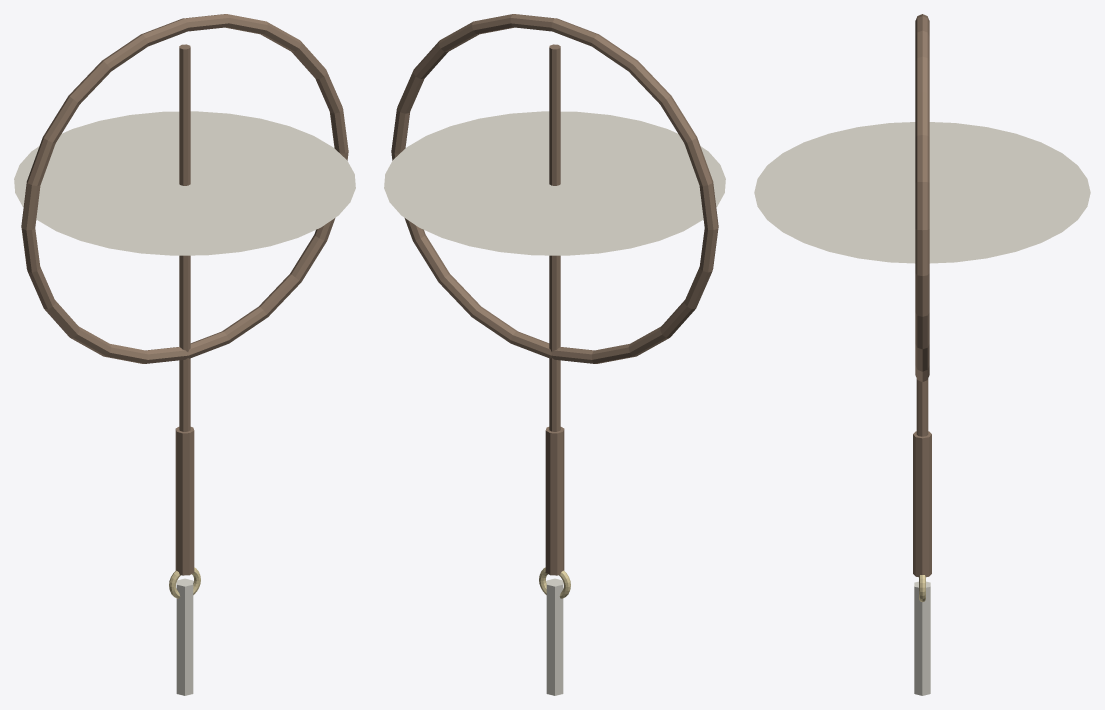
The model's file is prop_hand_fan.glb.
The picture shows the model from 3 angles, left to right: view 1: azimuth 30°, elevation 25°; view 2: azimuth 150°, elevation 25°; view 3: azimuth 270°, elevation 25°; orthographic projection.
Visible parts, largest first — view 1: prop_hand_fan/fan_face_00000, prop_hand_fan/fan_outer_hoop_00001, prop_hand_fan/fan_spine_00002, prop_hand_fan/fan_handle_00003, prop_hand_fan/fan_silk_tassel_00005; view 2: prop_hand_fan/fan_face_00000, prop_hand_fan/fan_outer_hoop_00001, prop_hand_fan/fan_spine_00002, prop_hand_fan/fan_handle_00003, prop_hand_fan/fan_silk_tassel_00005; view 3: prop_hand_fan/fan_face_00000, prop_hand_fan/fan_outer_hoop_00001, prop_hand_fan/fan_handle_00003, prop_hand_fan/fan_silk_tassel_00005, prop_hand_fan/fan_spine_00002.
Part boxes in pixels (bbox=[...]): prop_hand_fan/fan_face_00000: bbox=[14, 111, 355, 255]; prop_hand_fan/fan_outer_hoop_00001: bbox=[21, 14, 348, 363]; prop_hand_fan/fan_spine_00002: bbox=[179, 44, 190, 431]; prop_hand_fan/fan_handle_00003: bbox=[175, 427, 194, 575]; prop_hand_fan/fan_silk_tassel_00005: bbox=[176, 578, 193, 695]; prop_hand_fan/fan_face_00000: bbox=[384, 111, 725, 255]; prop_hand_fan/fan_outer_hoop_00001: bbox=[391, 14, 718, 363]; prop_hand_fan/fan_spine_00002: bbox=[549, 44, 560, 431]; prop_hand_fan/fan_handle_00003: bbox=[545, 427, 564, 575]; prop_hand_fan/fan_silk_tassel_00005: bbox=[546, 578, 563, 695]; prop_hand_fan/fan_face_00000: bbox=[754, 122, 1090, 263]; prop_hand_fan/fan_outer_hoop_00001: bbox=[915, 14, 929, 381]; prop_hand_fan/fan_handle_00003: bbox=[913, 431, 931, 577]; prop_hand_fan/fan_silk_tassel_00005: bbox=[914, 581, 930, 695]; prop_hand_fan/fan_spine_00002: bbox=[916, 379, 928, 436].
Bounding box in the file's own units: 0.312 × 0.616 × 0.284.
